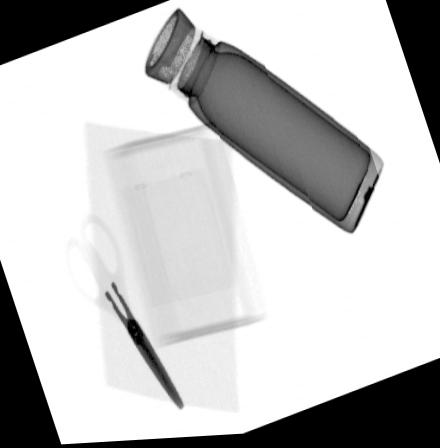Scissors: (59, 215, 185, 412)
